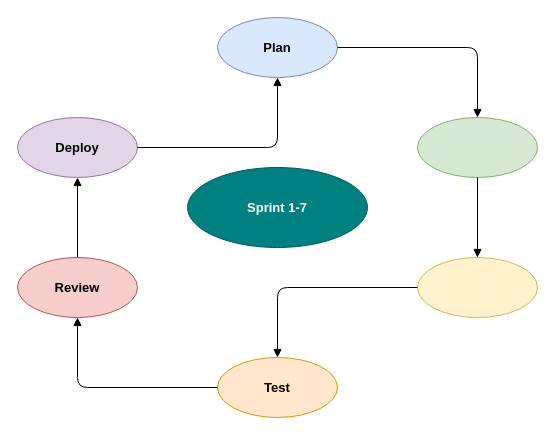
Some shapes in this 555 by 435 pixel diagram are drawn without their labels. Here are the shapes that lost their labels. From the top down, the box of each, then its label:
(416, 116, 538, 178): Design
(416, 256, 538, 318): Develop
